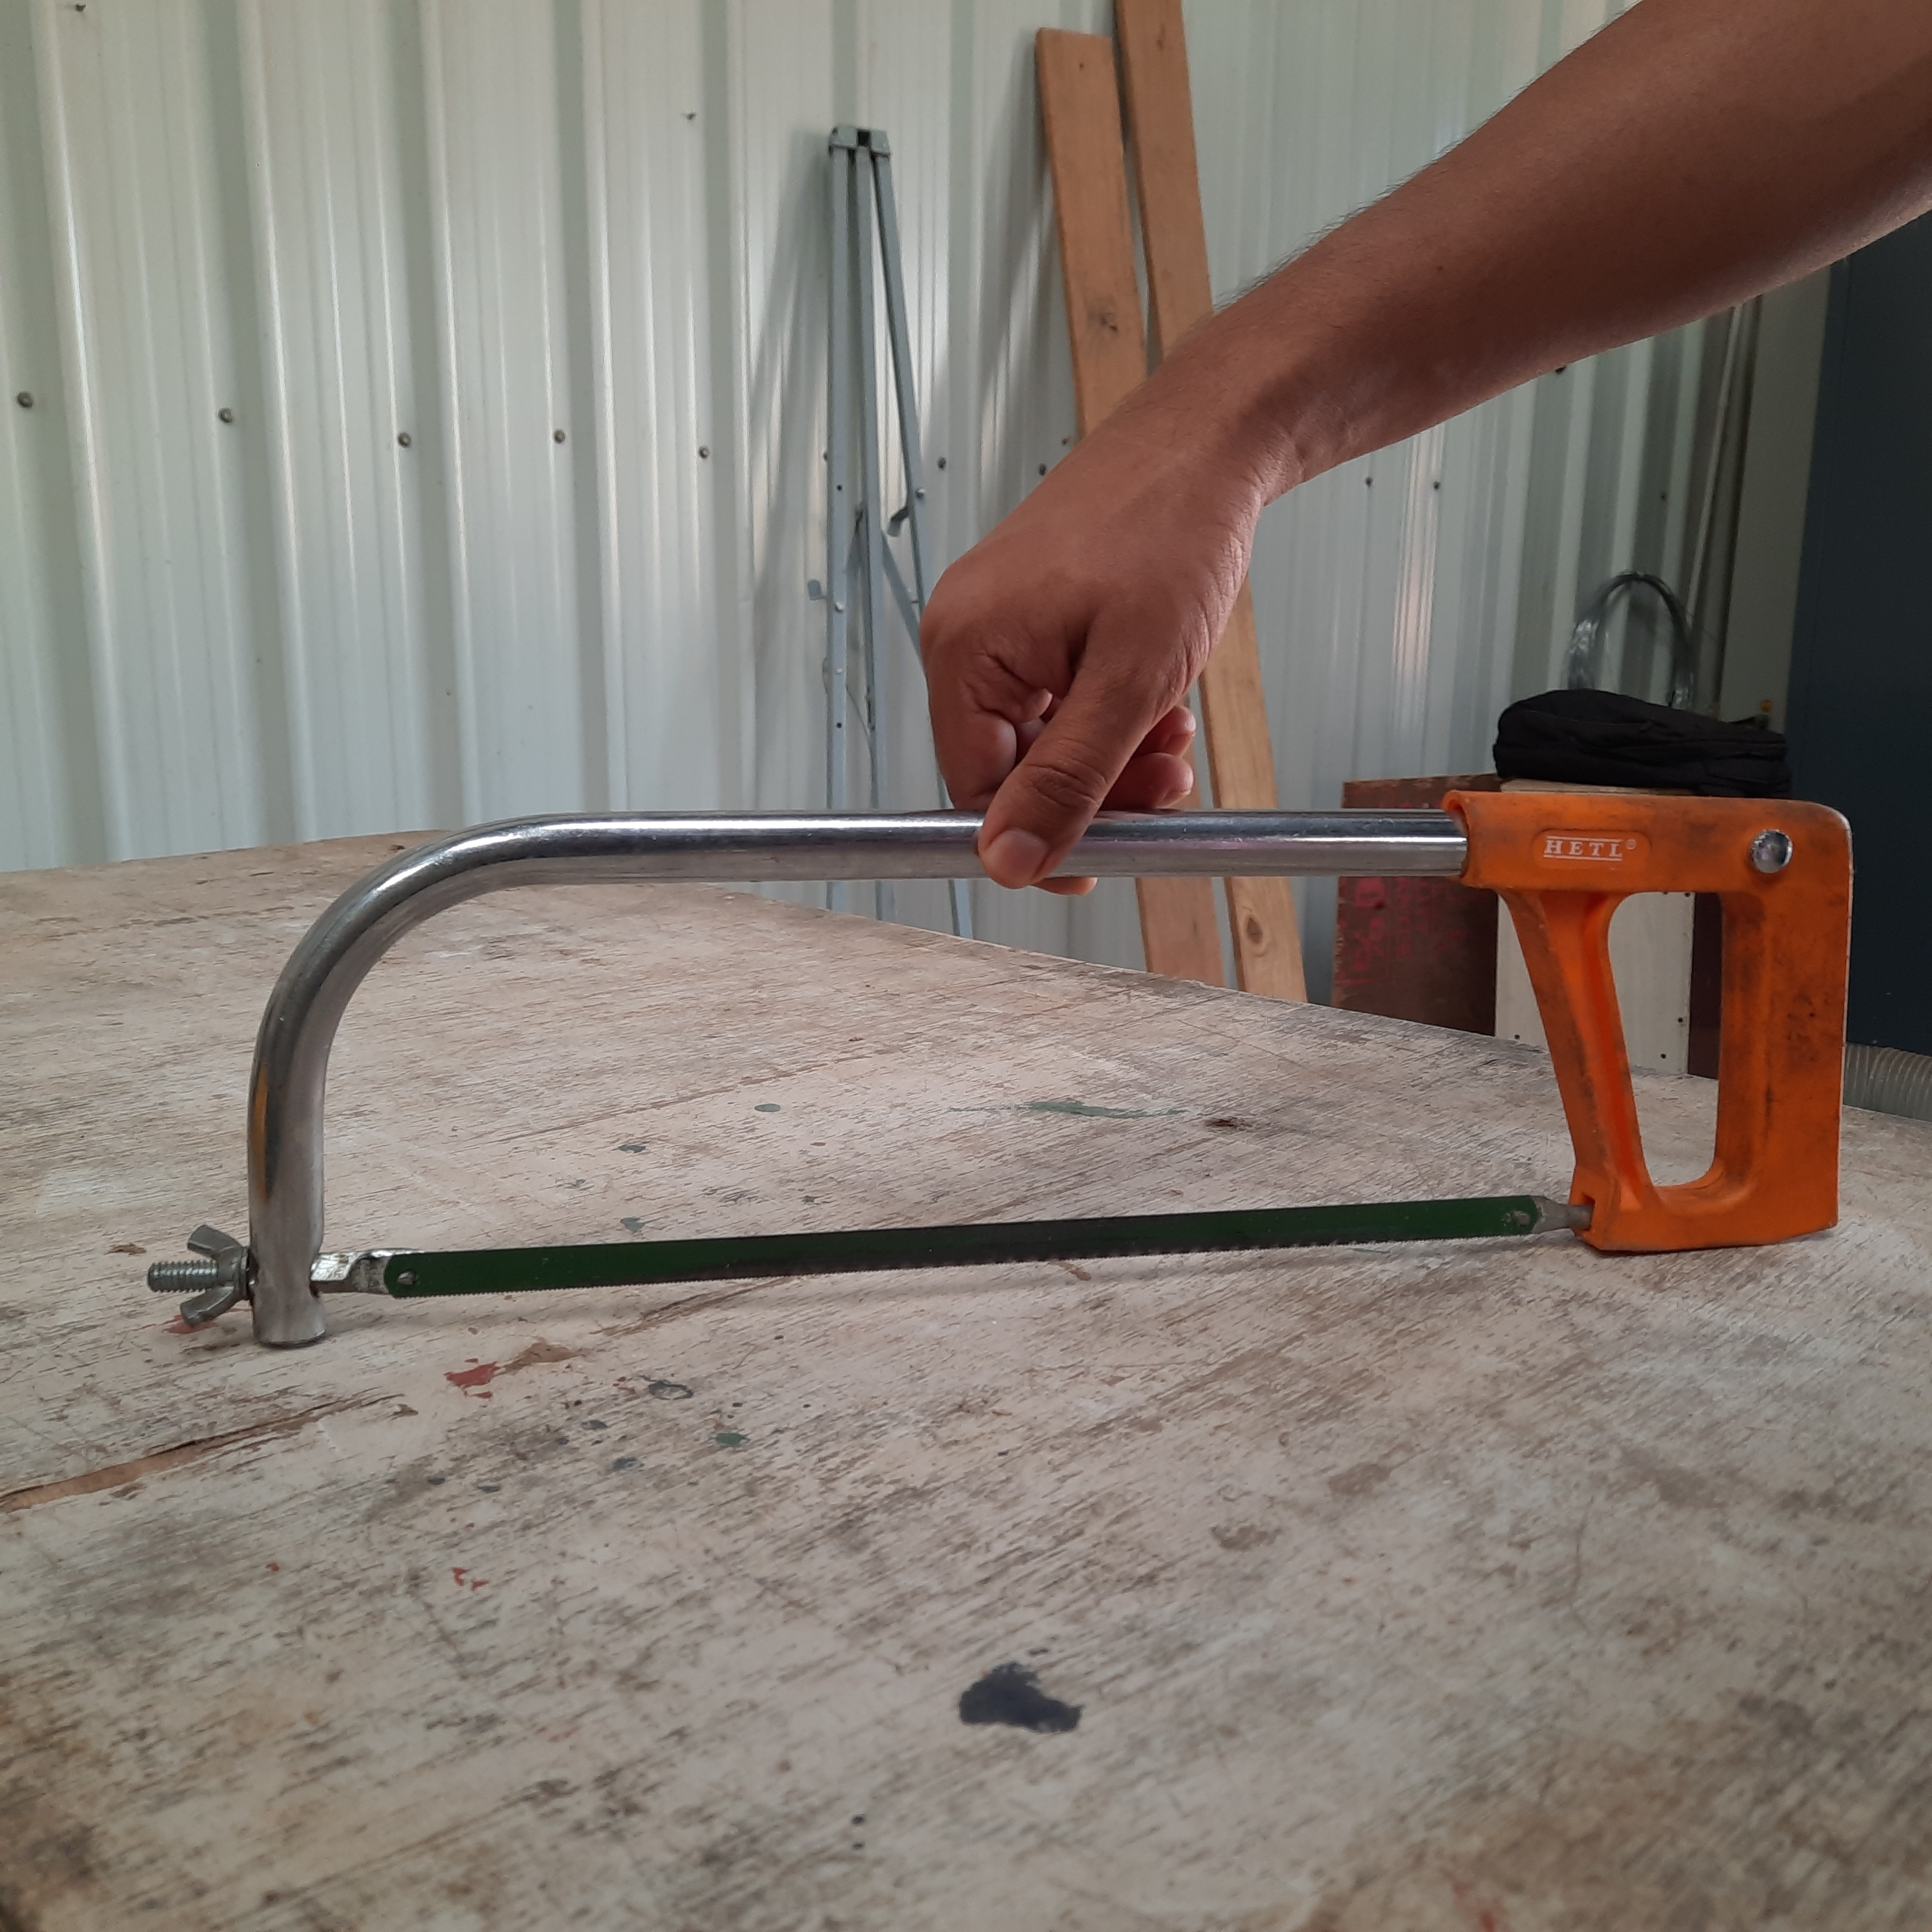Hexaframe: (142, 789, 1877, 1366)
